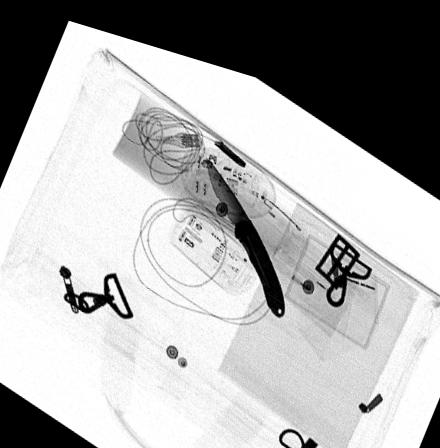Knife: (205, 141, 285, 300)
